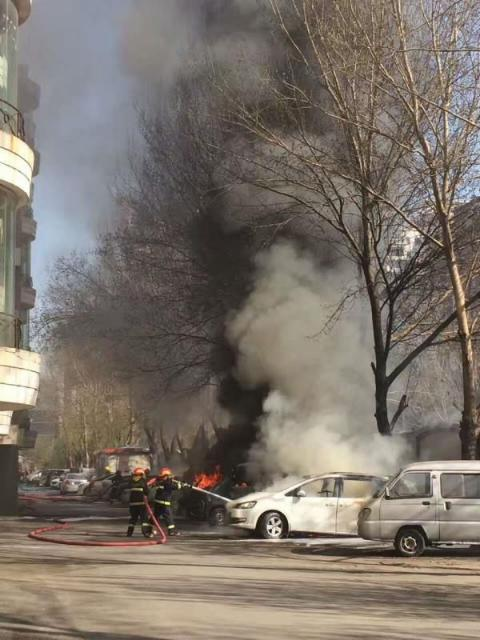smoke: (241, 242, 373, 386), (259, 386, 397, 472), (180, 0, 284, 63)
